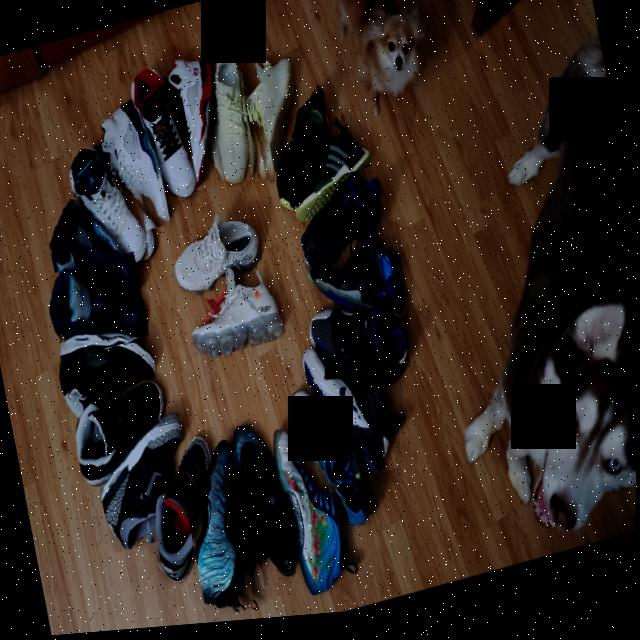shoe: (299, 328, 416, 496), (267, 415, 363, 606), (174, 430, 267, 626), (134, 436, 237, 596), (90, 413, 204, 557), (284, 377, 381, 545), (304, 228, 415, 355), (42, 185, 145, 319), (65, 134, 160, 279), (68, 376, 181, 494), (227, 420, 302, 595), (291, 170, 398, 289), (307, 292, 417, 407), (124, 59, 203, 213), (92, 94, 172, 242), (179, 259, 288, 367), (159, 49, 237, 199), (45, 253, 151, 363), (261, 89, 349, 219), (53, 315, 162, 418), (283, 117, 380, 231), (237, 53, 314, 193), (200, 44, 264, 195), (165, 209, 268, 301)
